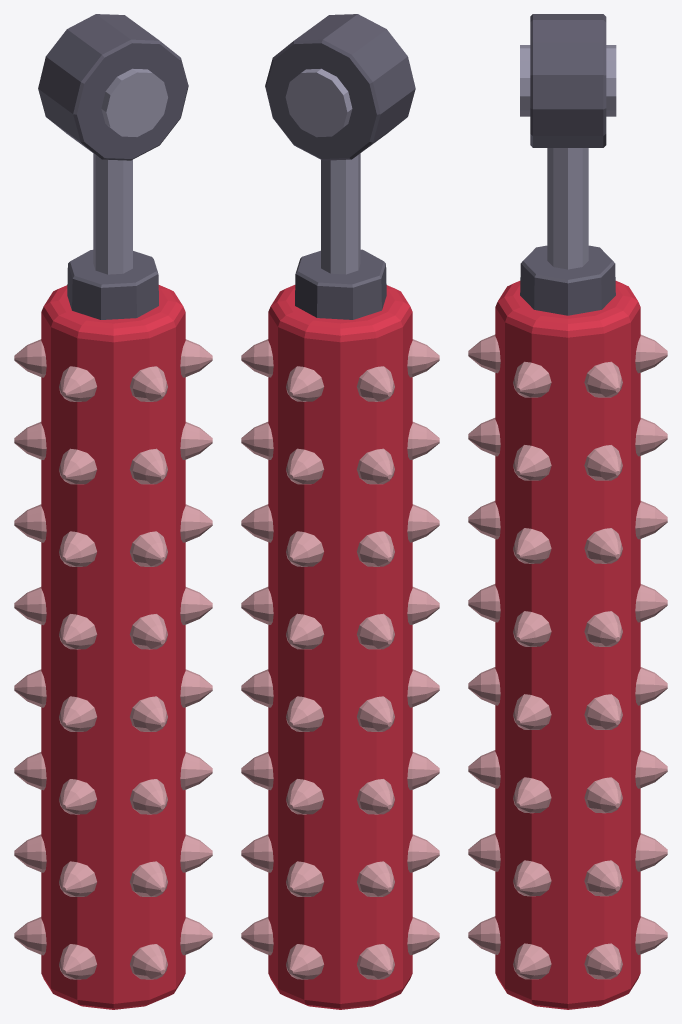
Rendered from Hurdle22.fbx.
3 views of the same model, side by side, from view 1: azimuth 30°, elevation 25°; view 2: azimuth 150°, elevation 25°; view 3: azimuth 270°, elevation 25° (orthographic).
Parts seen in each view (by area): view 1: Hurdle22; view 2: Hurdle22; view 3: Hurdle22.
Boxes of the visible parts, bbox=[...] form: Hurdle22: bbox=[14, 14, 212, 1009]; Hurdle22: bbox=[241, 14, 439, 1009]; Hurdle22: bbox=[468, 14, 667, 1009].
Bounding box in the file's own units: 0.8254 × 5.01 × 0.9389.
1 material, 1 textured.
